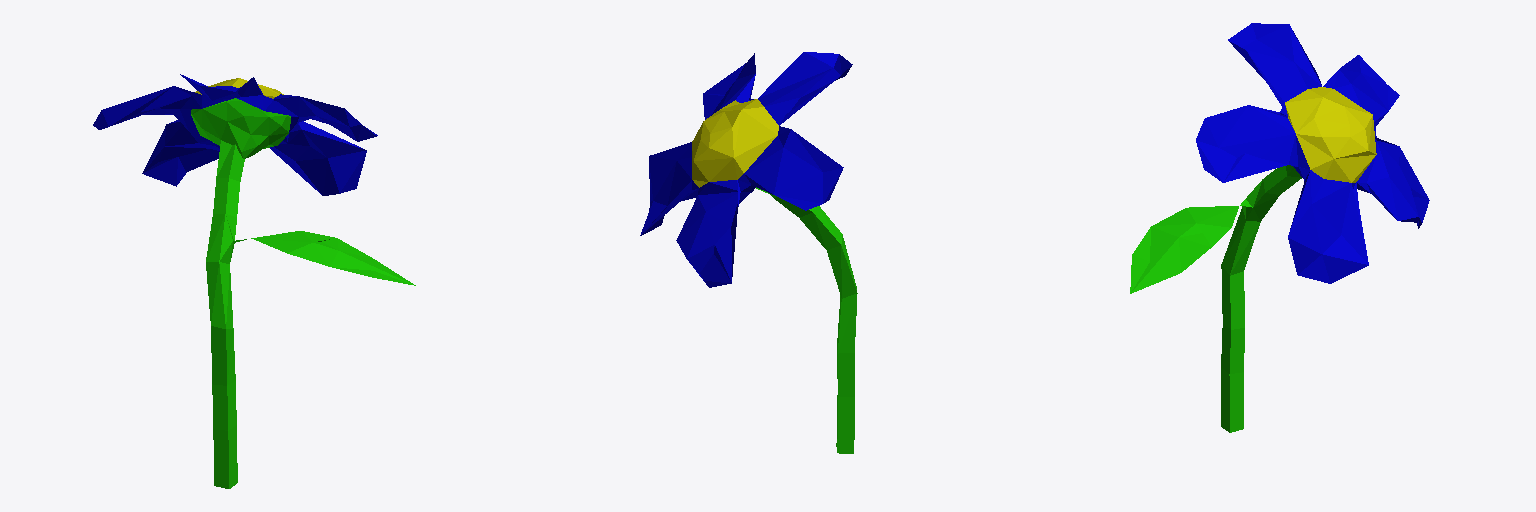
Rendered from Flower4.obj.
3 views of the same model, side by side, from view 1: azimuth 30°, elevation 25°; view 2: azimuth 150°, elevation 25°; view 3: azimuth 270°, elevation 25° (orthographic).
Visible parts, largest first — view 1: Flower4.004_Plane.025; view 2: Flower4.004_Plane.025; view 3: Flower4.004_Plane.025.
Part boxes in pixels (left/top/right/bottom): Flower4.004_Plane.025: left=93, top=74, right=415, bottom=488; Flower4.004_Plane.025: left=640, top=52, right=857, bottom=453; Flower4.004_Plane.025: left=1130, top=23, right=1429, bottom=432.
Size of the model in its own units: 0.8978 by 1.48 by 1.01.